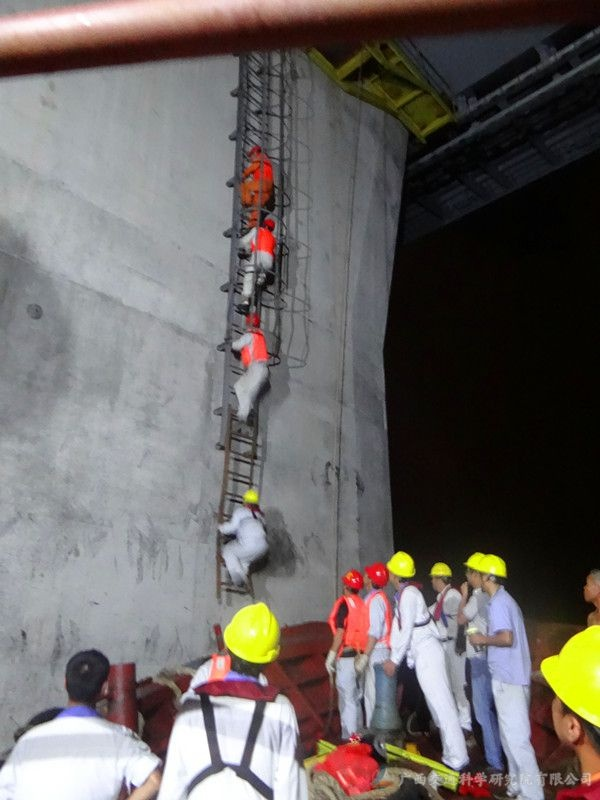none: (59, 645, 114, 709)
red: (364, 559, 388, 591), (340, 567, 364, 596), (243, 310, 261, 331), (259, 216, 276, 232), (248, 143, 261, 160)
yellow: (539, 620, 600, 744), (220, 599, 284, 676), (478, 552, 507, 593), (387, 548, 415, 588), (429, 560, 452, 593), (464, 551, 483, 587), (240, 488, 259, 510)
